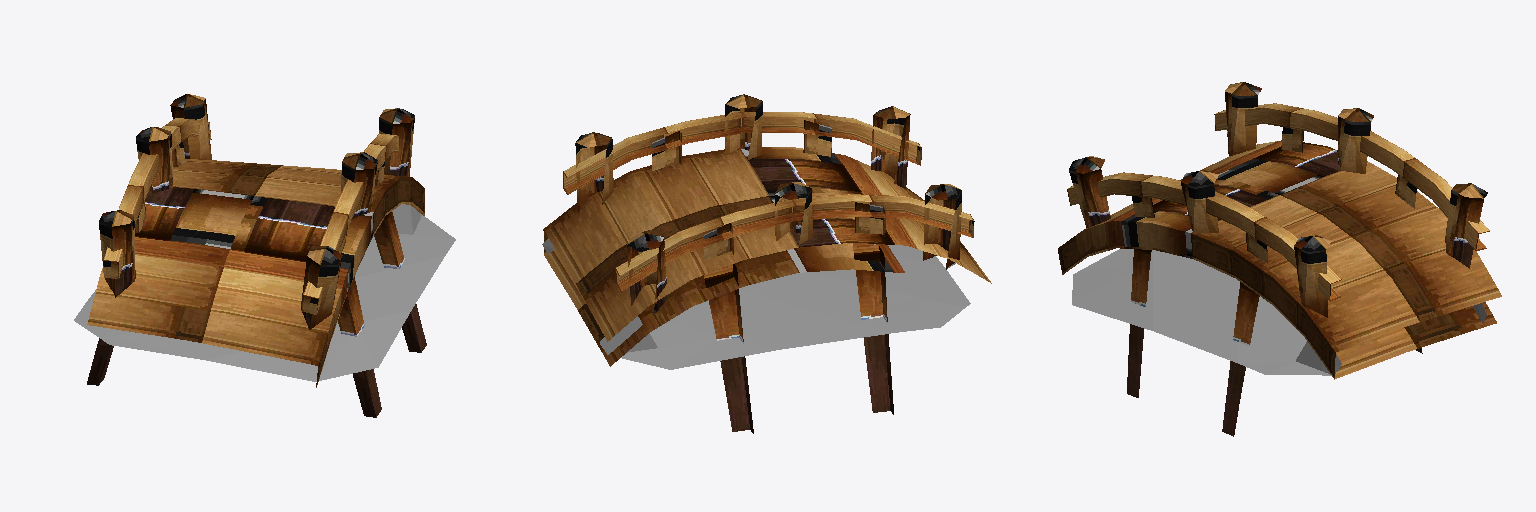
3 renders of one model, left to right at view 1: azimuth 30°, elevation 25°; view 2: azimuth 150°, elevation 25°; view 3: azimuth 270°, elevation 25°, orthographic.
Parts seen in each view (by area): view 1: vsn_mesh_0__mesh_0_.006, vsn_mesh_1__mesh_1_.005; view 2: vsn_mesh_0__mesh_0_.006, vsn_mesh_1__mesh_1_.005; view 3: vsn_mesh_0__mesh_0_.006, vsn_mesh_1__mesh_1_.005.
Part boxes in pixels (left/top/right/bottom): vsn_mesh_0__mesh_0_.006: left=87, top=94, right=426, bottom=417; vsn_mesh_1__mesh_1_.005: left=74, top=204, right=455, bottom=381; vsn_mesh_0__mesh_0_.006: left=543, top=94, right=991, bottom=433; vsn_mesh_1__mesh_1_.005: left=542, top=238, right=970, bottom=369; vsn_mesh_0__mesh_0_.006: left=1058, top=82, right=1501, bottom=436; vsn_mesh_1__mesh_1_.005: left=1072, top=249, right=1486, bottom=375.
Bounding box in the file's own units: 166 × 94.01 × 162.
2 materials, 1 textured.